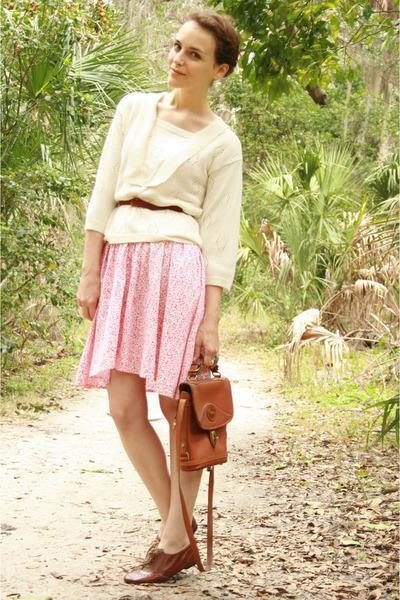bag: (159, 353, 233, 467)
shirt: (81, 91, 250, 290)
shoe: (139, 542, 205, 583)
skirt: (90, 233, 210, 404)
